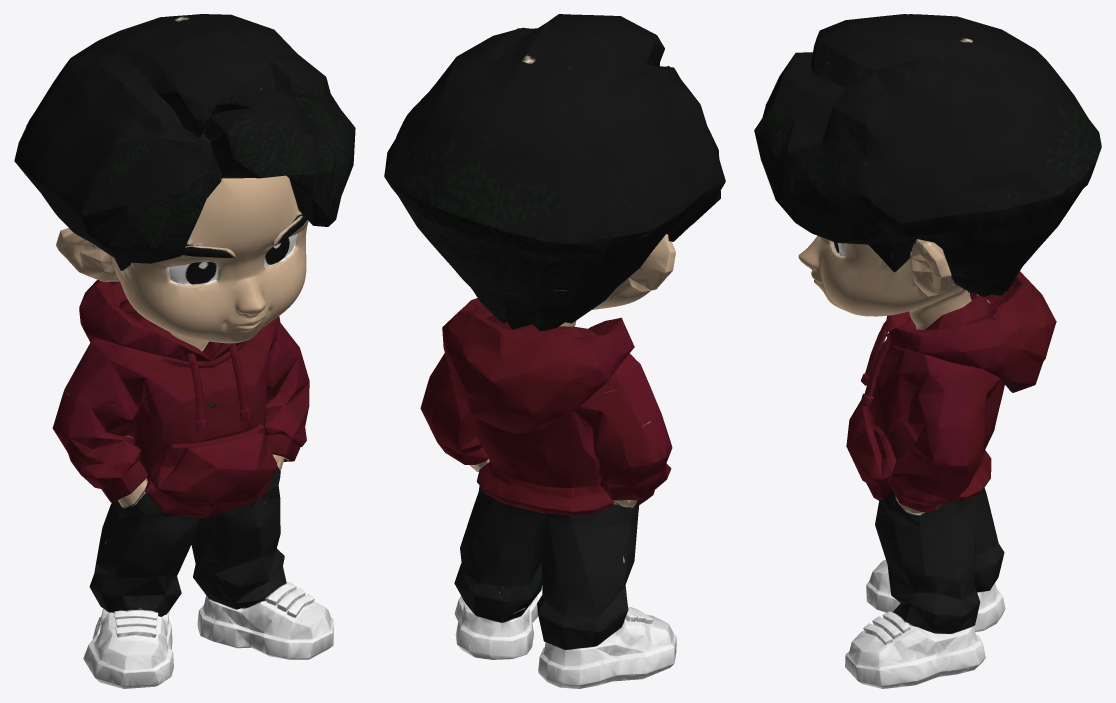
File: haikal-avatar.glb
The picture shows the model from 3 angles, left to right: view 1: azimuth 30°, elevation 25°; view 2: azimuth 150°, elevation 25°; view 3: azimuth 270°, elevation 25°; orthographic projection. The views are drawn at different scales.
Visible parts, largest first — view 1: Meshy_AI_maroon_hoodie_buddy_3_1031092749_image-to-3d-textur; view 2: Meshy_AI_maroon_hoodie_buddy_3_1031092749_image-to-3d-textur; view 3: Meshy_AI_maroon_hoodie_buddy_3_1031092749_image-to-3d-textur.
Part boxes in pixels (x1,y1,x2,y2): Meshy_AI_maroon_hoodie_buddy_3_1031092749_image-to-3d-textur: (14, 14, 355, 688); Meshy_AI_maroon_hoodie_buddy_3_1031092749_image-to-3d-textur: (384, 14, 725, 688); Meshy_AI_maroon_hoodie_buddy_3_1031092749_image-to-3d-textur: (754, 14, 1101, 688).
Bounding box in the file's own units: 1.37 × 2.8 × 1.45.
1 material, 1 textured.
